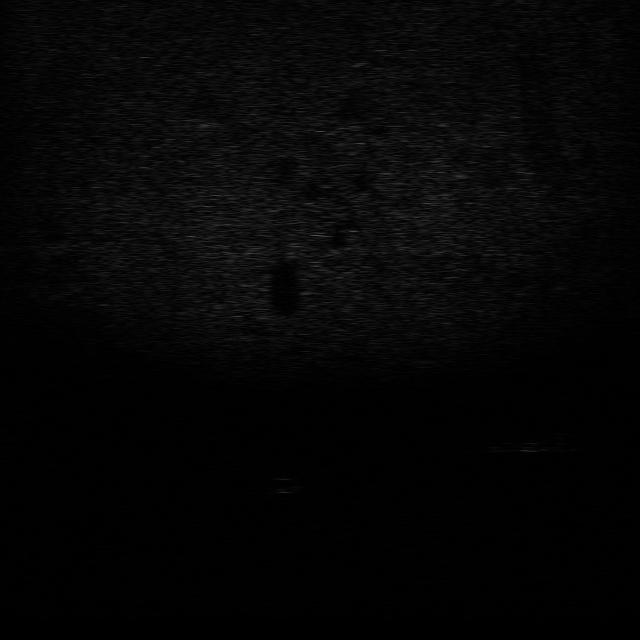ball: (265, 473, 304, 497)
human body: (482, 428, 588, 457)
